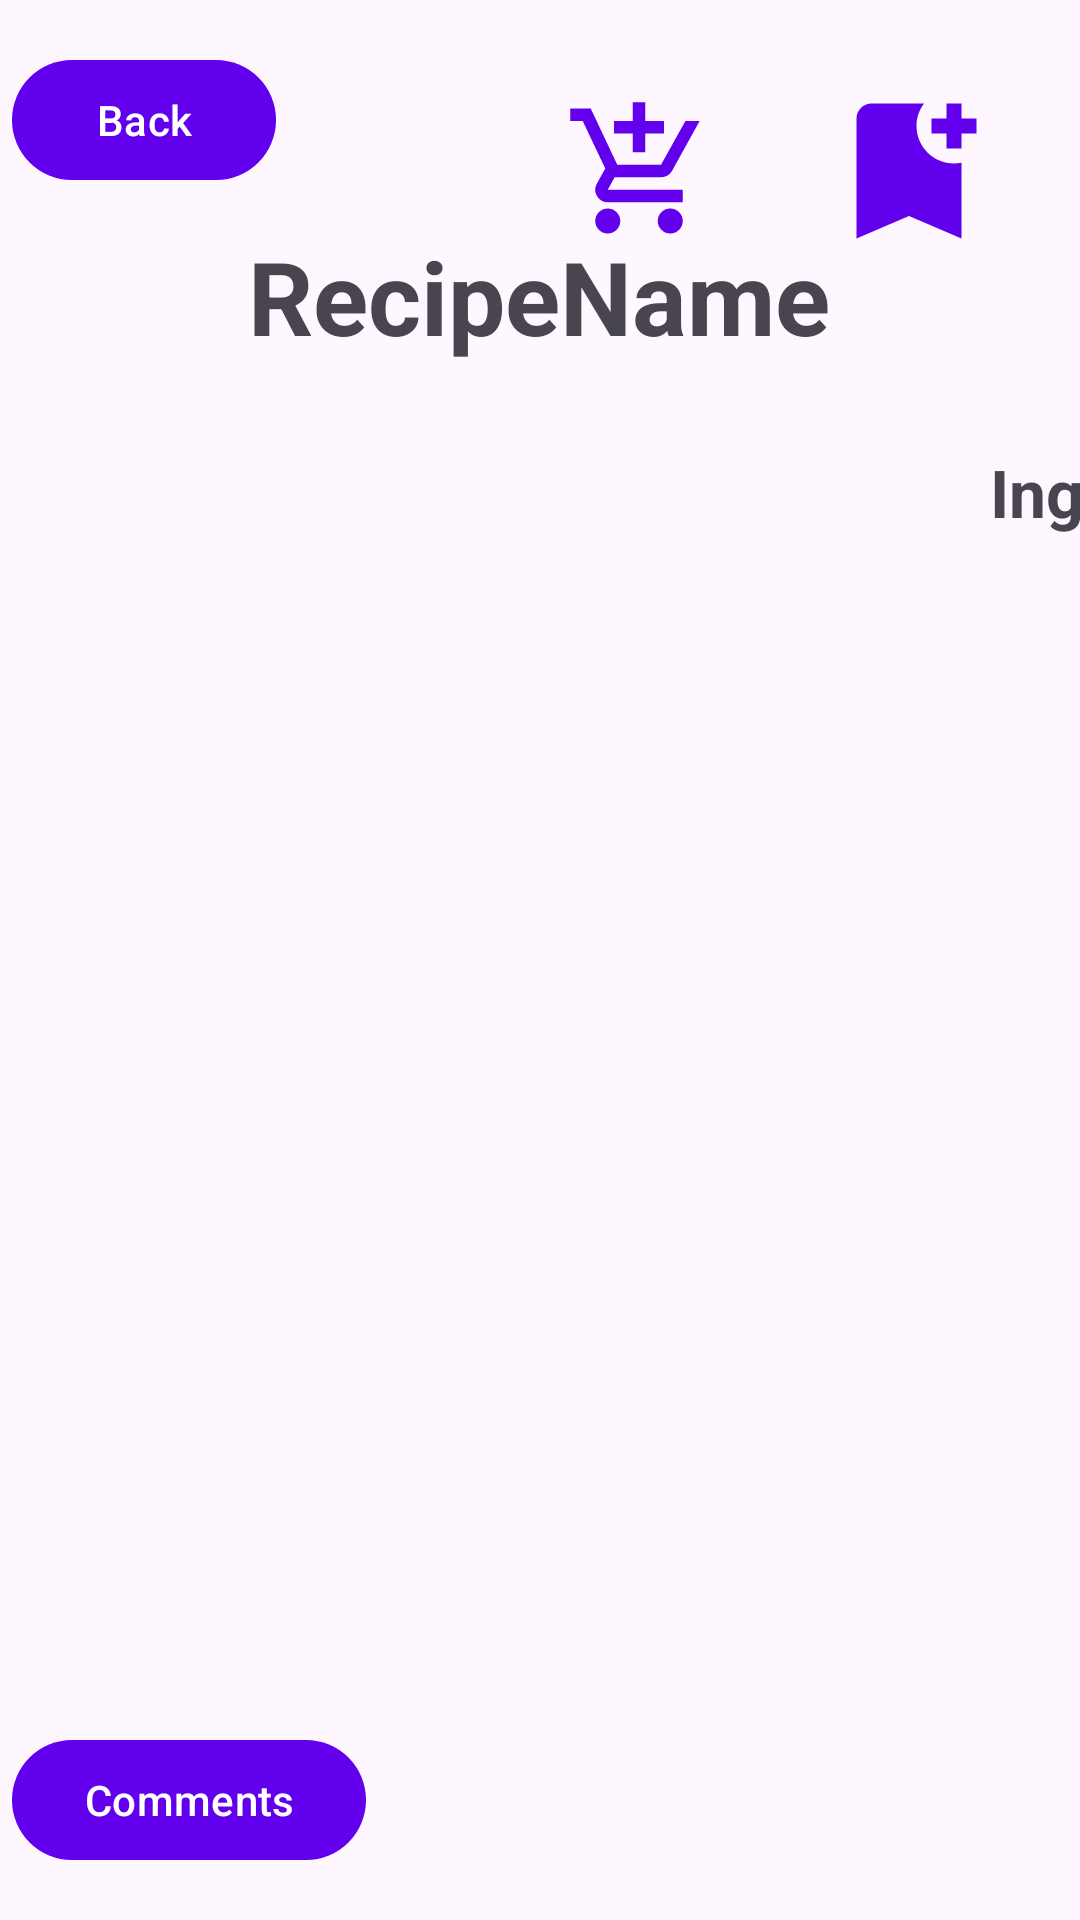

Screen size 1080 × 1920. Icon name, then its center in pixels as (x,y):
add to saved: (916,171)
shopping: (635,168)
